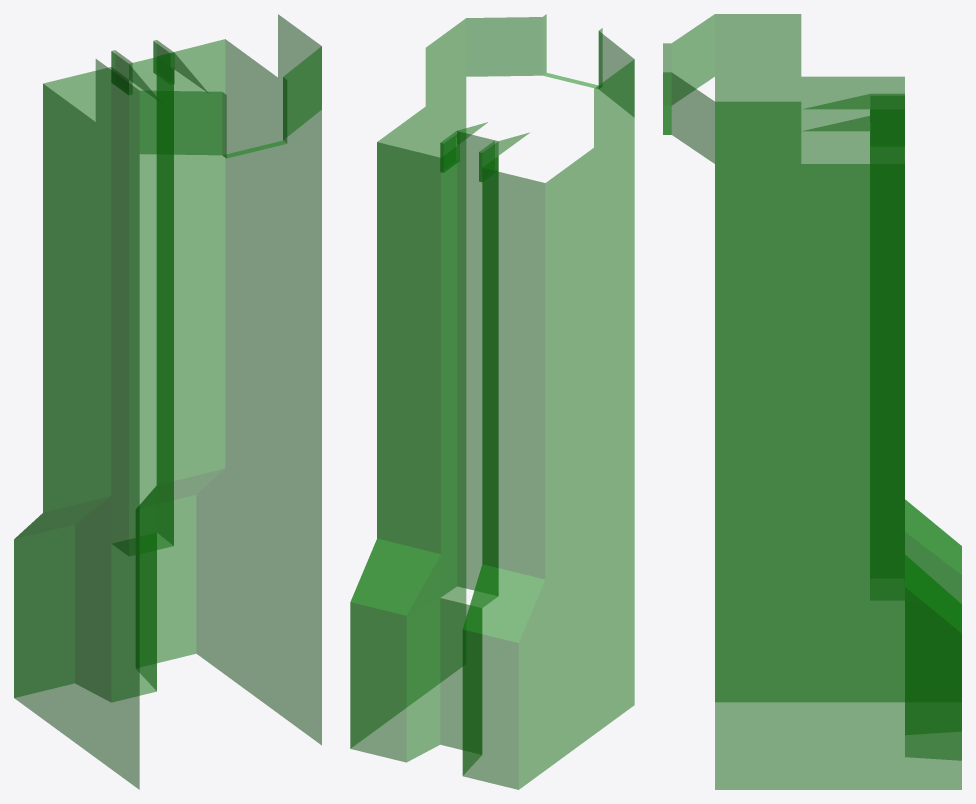
Rendered from D02_wall01.obj.
The picture shows the model from 3 angles, left to right: view 1: azimuth 30°, elevation 25°; view 2: azimuth 150°, elevation 25°; view 3: azimuth 270°, elevation 25°; orthographic projection. The views are drawn at different scales.
Size of the model in its own units: 24 by 88 by 34.6.
